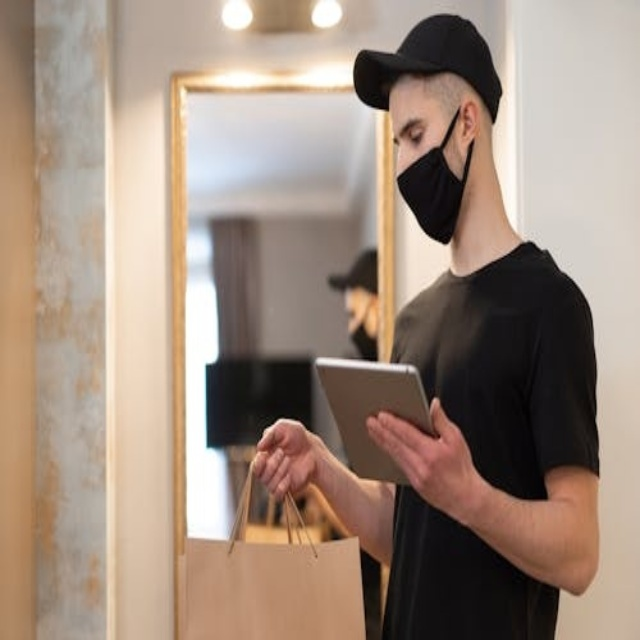Mascara: (397, 106, 471, 245), (349, 313, 378, 362)
Sin_gafas: (389, 106, 430, 156)
Sin_guantes: (358, 384, 477, 515), (250, 402, 325, 498)
